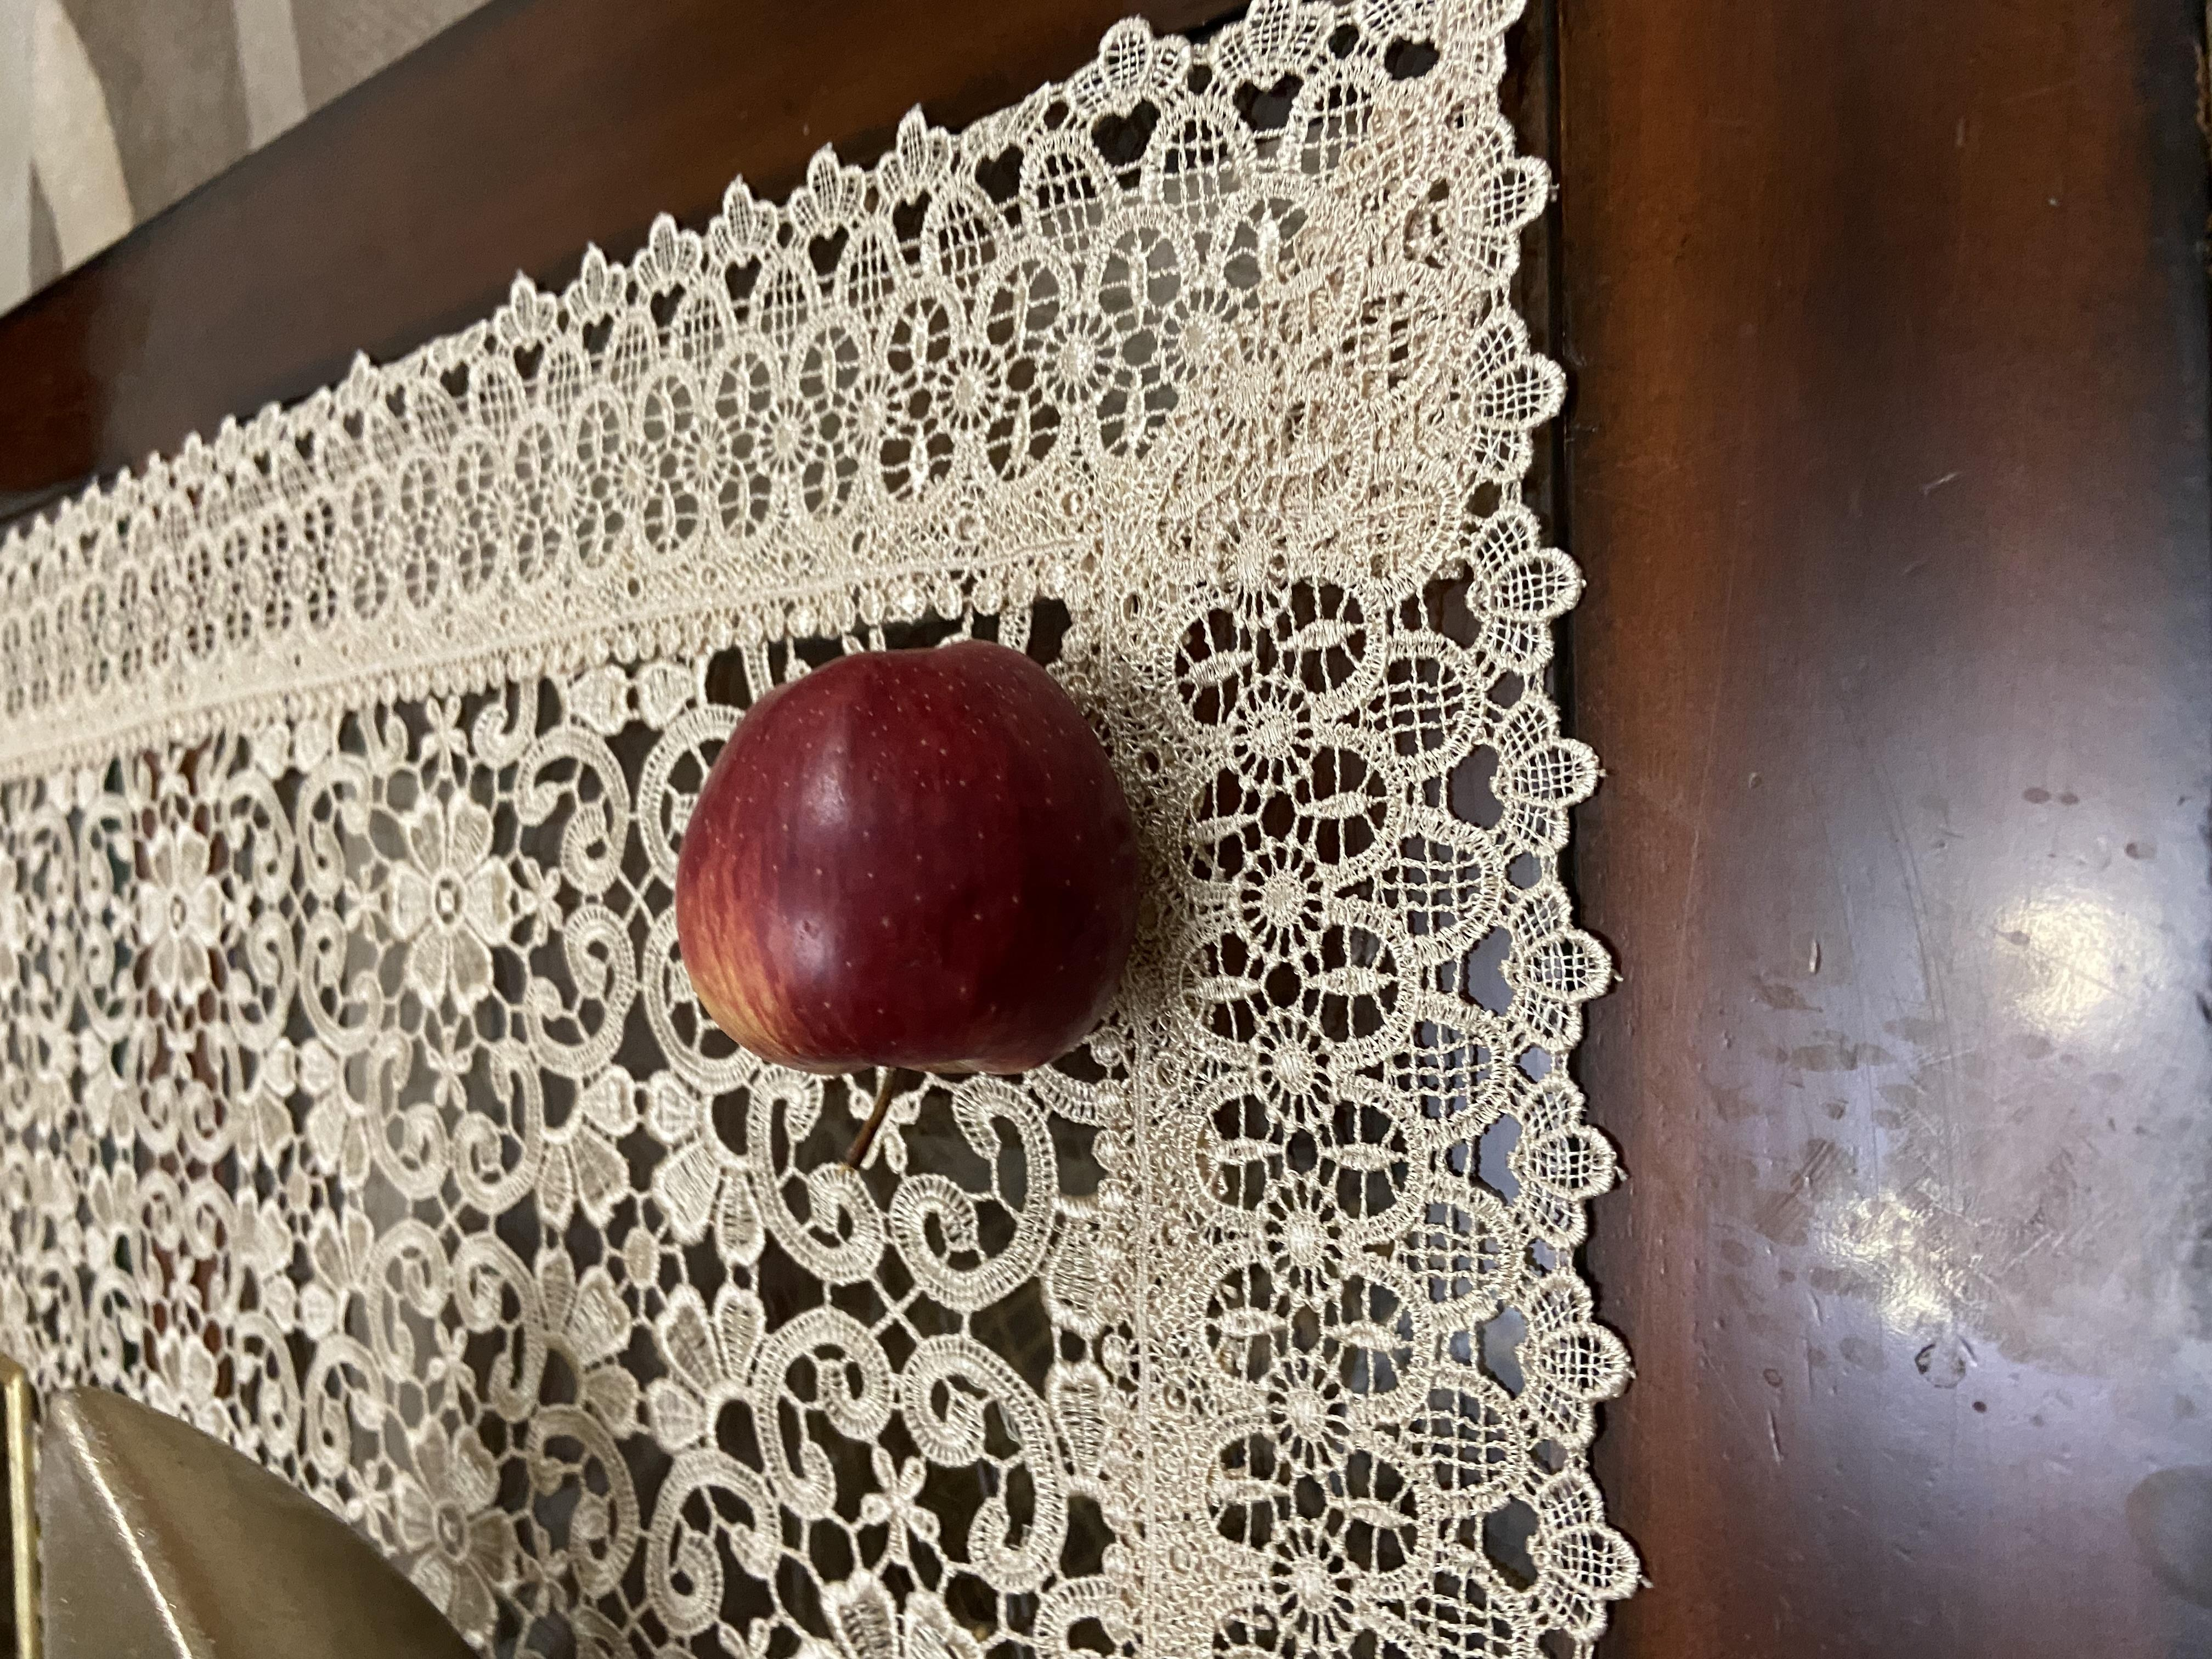Apple: (653, 498, 1369, 859)
